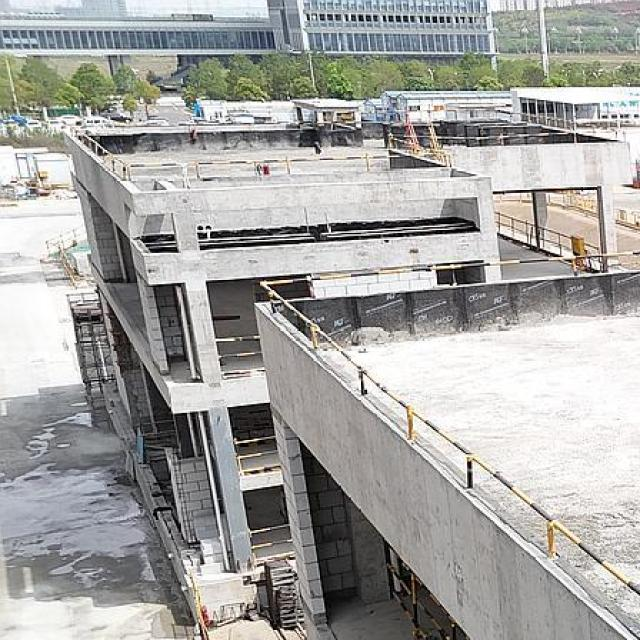edge_guardrail: (258, 250, 640, 595), (73, 120, 568, 181), (383, 541, 468, 639), (214, 334, 266, 376), (494, 210, 536, 244), (234, 434, 279, 460), (250, 524, 293, 549), (539, 226, 574, 256), (584, 241, 599, 250)
